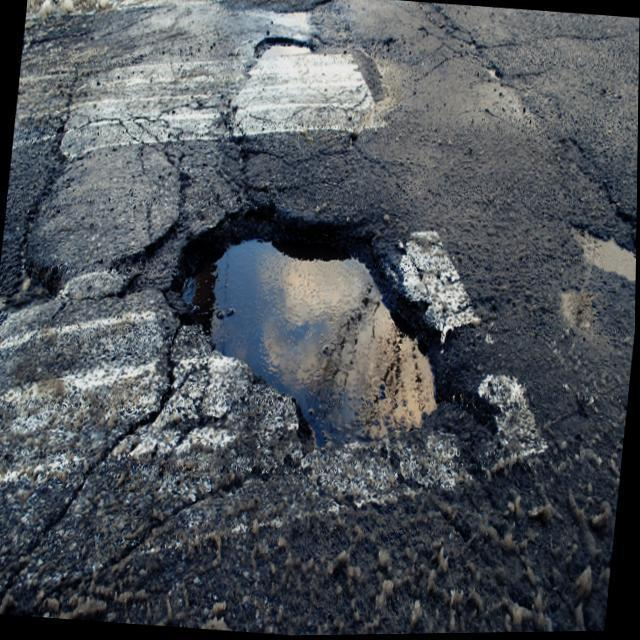Pothole: (169, 201, 496, 450)
